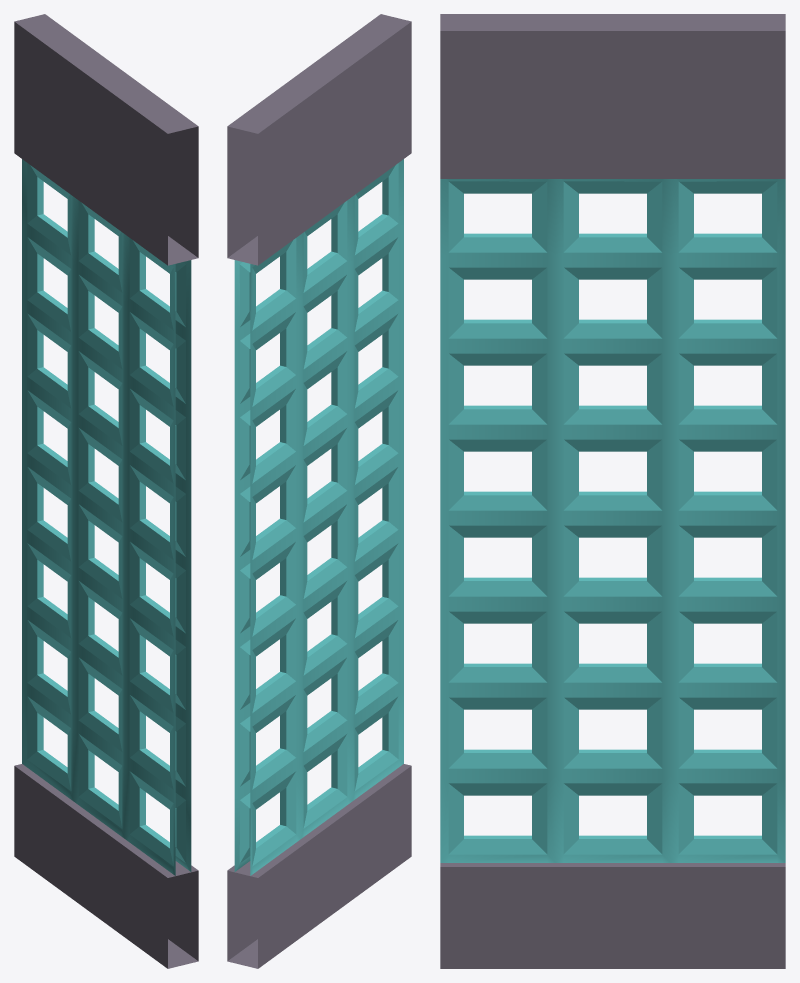
The model's file is EM_92_93_window_fence.glb.
The picture shows the model from 3 angles, left to right: view 1: azimuth 30°, elevation 25°; view 2: azimuth 150°, elevation 25°; view 3: azimuth 270°, elevation 25°; orthographic projection. The views are drawn at different scales.
Visible parts, largest first — view 1: fence, wall_corner; view 2: fence, wall_corner; view 3: fence, wall_corner.
Part boxes in pixels (<box>): fence: <box>22,159,191,875</box>; wall_corner: <box>14,14,198,968</box>; fence: <box>234,159,403,875</box>; wall_corner: <box>227,14,411,968</box>; fence: <box>440,179,785,862</box>; wall_corner: <box>440,14,785,968</box>.
Size of the model in its own units: 0.0869 by 2.25 by 0.75.
